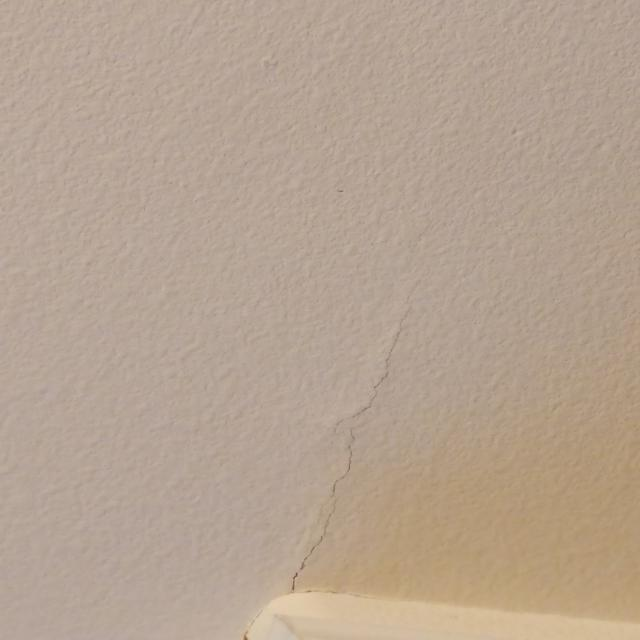leak: (289, 282, 426, 603)
